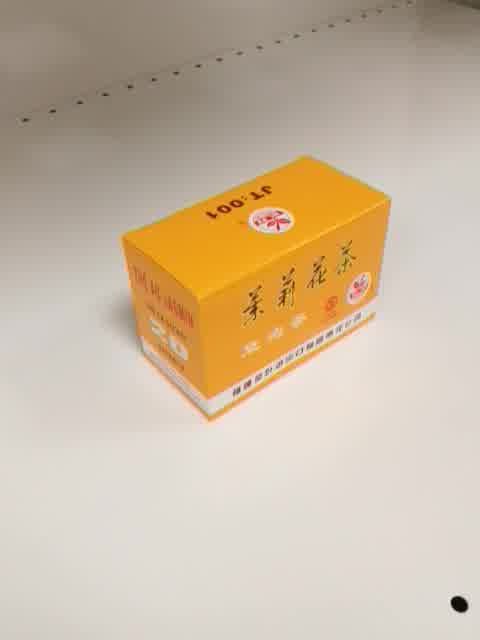jasminetea: (119, 152, 392, 425)
